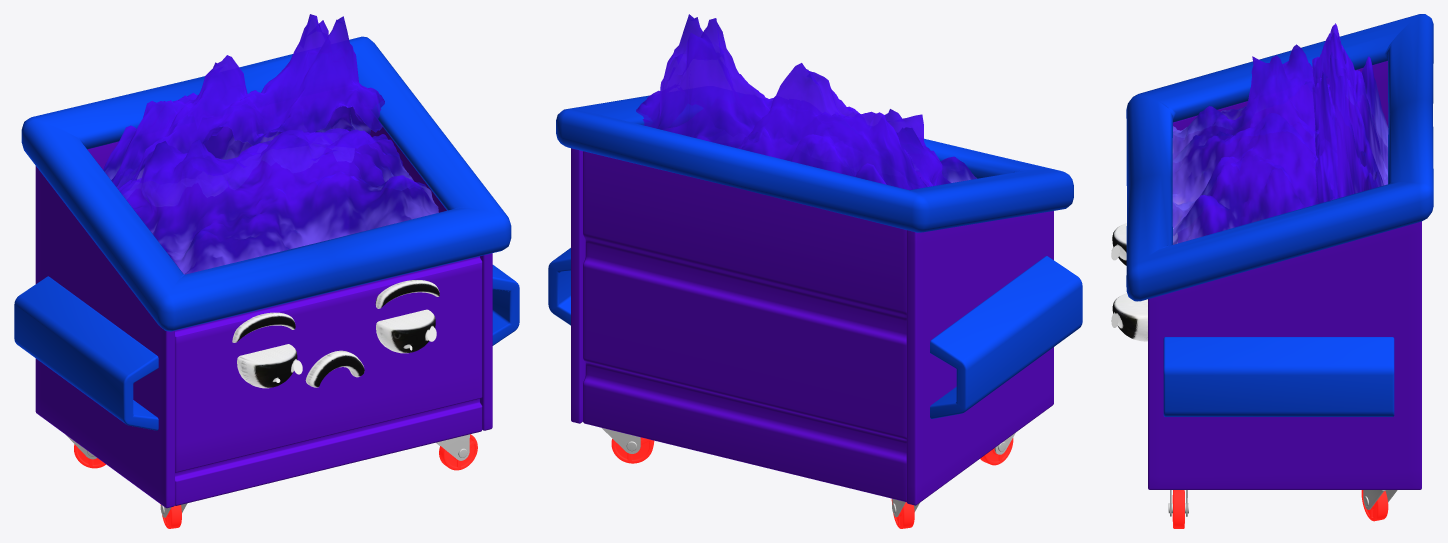
3 views of the same model, side by side, from view 1: azimuth 30°, elevation 25°; view 2: azimuth 150°, elevation 25°; view 3: azimuth 270°, elevation 25° (orthographic). The views are drawn at different scales.
Visible parts, largest first — view 1: Dumpster Geometry, Small Fire.003, Fire Small Back.003, Wheel Holder; view 2: Dumpster Geometry, Fire Small Back.003, Small Fire.003, Wheel Holder; view 3: Dumpster Geometry, Small Fire.003, Fire Small Back.003, Wheel Holder.
Part boxes in pixels (<box>): Dumpster Geometry: <box>14,36,519,528</box>; Small Fire.003: <box>118,128,438,274</box>; Fire Small Back.003: <box>103,14,384,206</box>; Wheel Holder: <box>66,434,469,517</box>; Dumpster Geometry: <box>548,95,1082,528</box>; Fire Small Back.003: <box>636,14,927,190</box>; Small Fire.003: <box>667,109,976,189</box>; Wheel Holder: <box>601,427,1015,516</box>; Dumpster Geometry: <box>1111,14,1433,528</box>; Small Fire.003: <box>1172,44,1337,244</box>; Fire Small Back.003: <box>1312,23,1388,203</box>; Wheel Holder: <box>1168,490,1397,516</box>.
Size of the model in its own units: 2.31 by 2.33 by 1.56.
8 materials, 4 textured.
